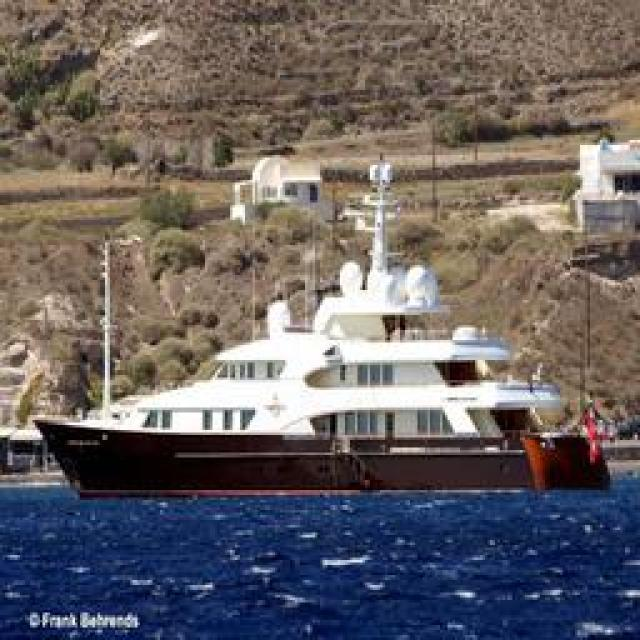CIV_Ship: (37, 302, 615, 496)
